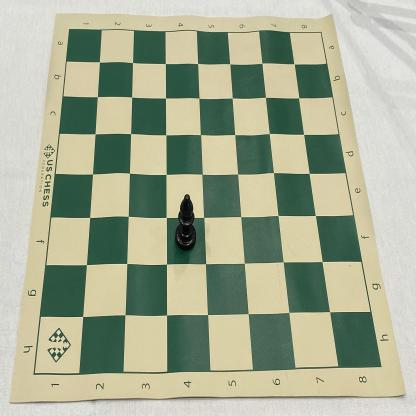black-bishop: (174, 194, 198, 252)
